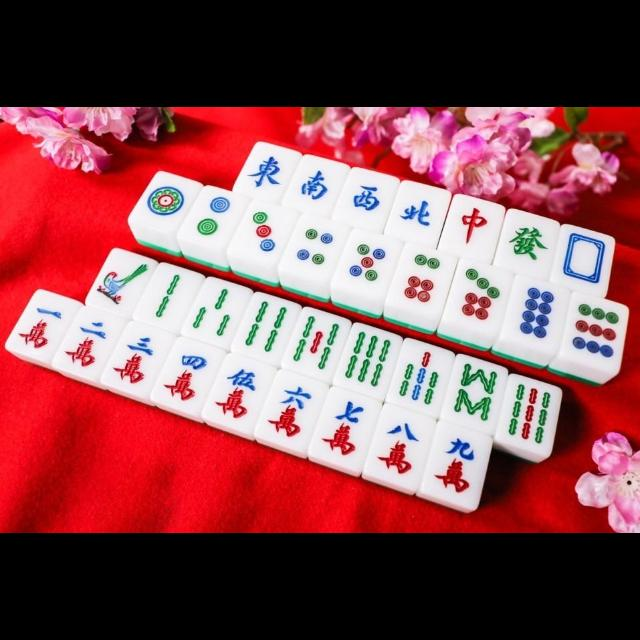b2: (144, 268, 192, 330)
b3: (190, 282, 240, 344)
b4: (239, 295, 293, 359)
b5: (288, 306, 342, 378)
b6: (344, 324, 394, 394)
b7: (396, 341, 448, 411)
b8: (447, 358, 503, 428)
b9: (503, 376, 559, 452)
c1: (10, 296, 68, 362)
c2: (62, 312, 115, 376)
c3: (108, 326, 162, 394)
c4: (162, 346, 215, 414)
c5: (212, 359, 266, 433)
c6: (262, 379, 320, 447)
c7: (317, 391, 373, 467)
c8: (370, 414, 430, 486)
c9: (430, 431, 484, 503)
d1: (137, 175, 191, 229)
d2: (186, 187, 240, 245)
d3: (235, 204, 291, 260)
d4: (287, 218, 341, 278)
d5: (335, 232, 395, 296)
d6: (394, 246, 450, 312)
d7: (448, 264, 508, 330)
d8: (507, 282, 565, 350)
d9: (566, 299, 624, 366)
dg: (495, 214, 555, 272)
dr: (444, 199, 500, 257)
dw: (554, 226, 612, 294)
we: (238, 148, 292, 200)
wn: (389, 186, 443, 242)
ws: (290, 160, 340, 212)
ww: (339, 174, 388, 228)
